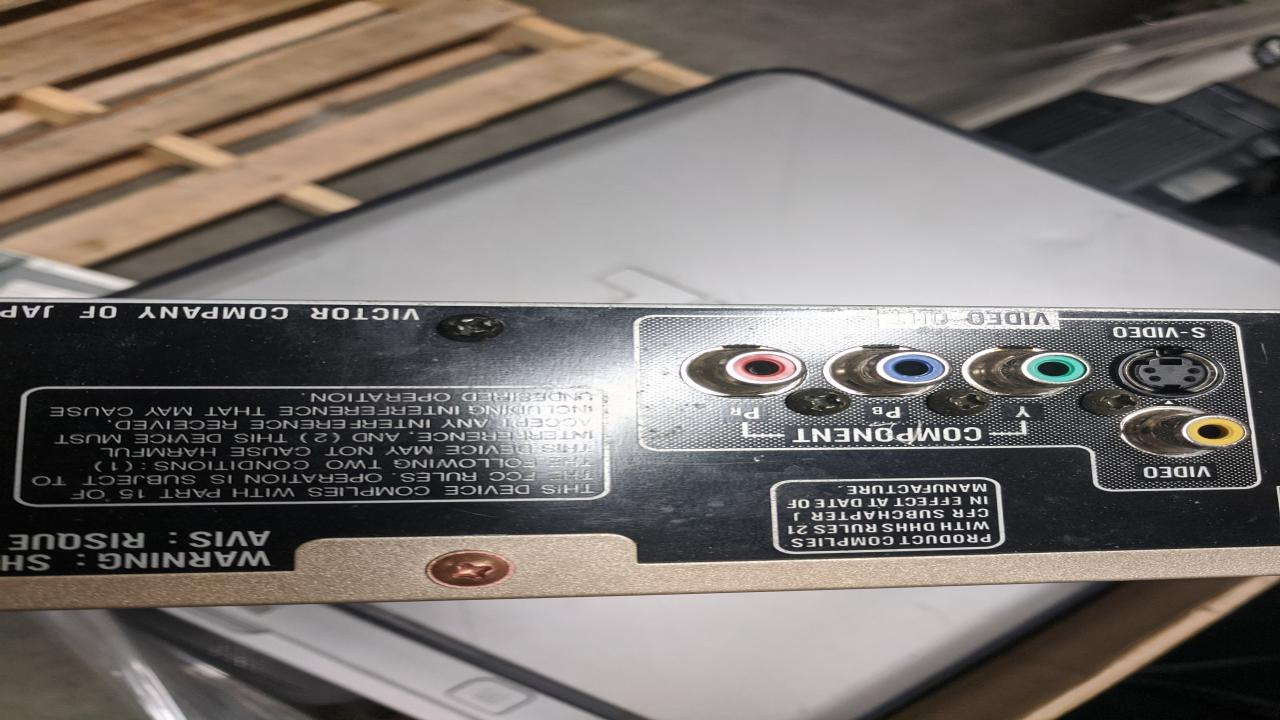CRS: (426, 550, 508, 588), (1074, 390, 1143, 417), (439, 314, 506, 341), (932, 388, 999, 415), (791, 389, 854, 415)
